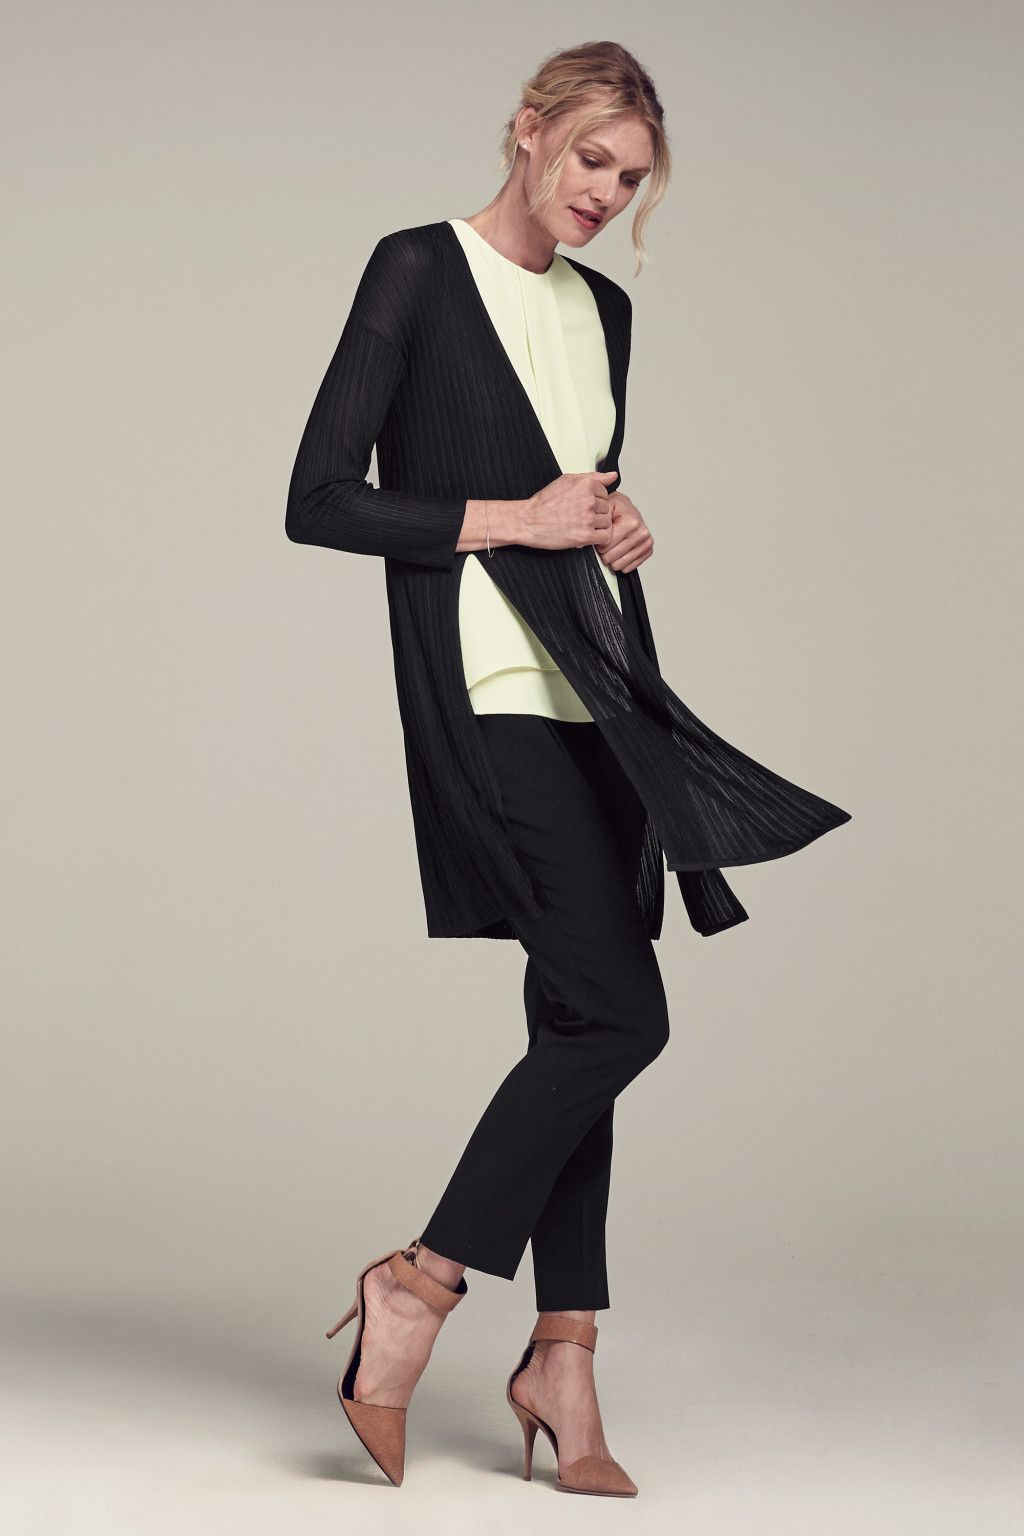F_W_suit jacket: (278, 210, 726, 769)
